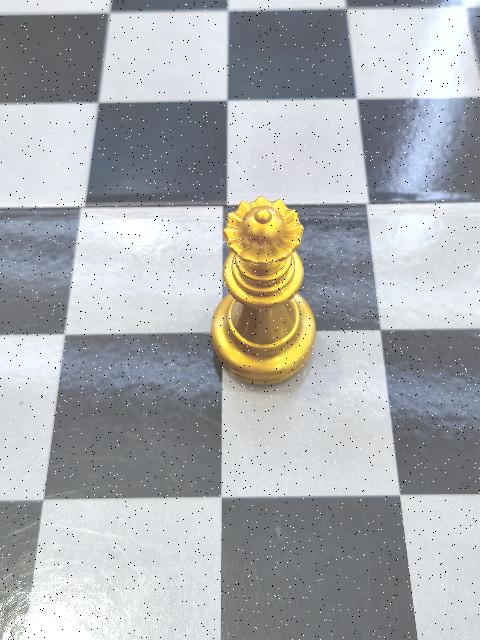black_queen: (214, 196, 314, 383)
